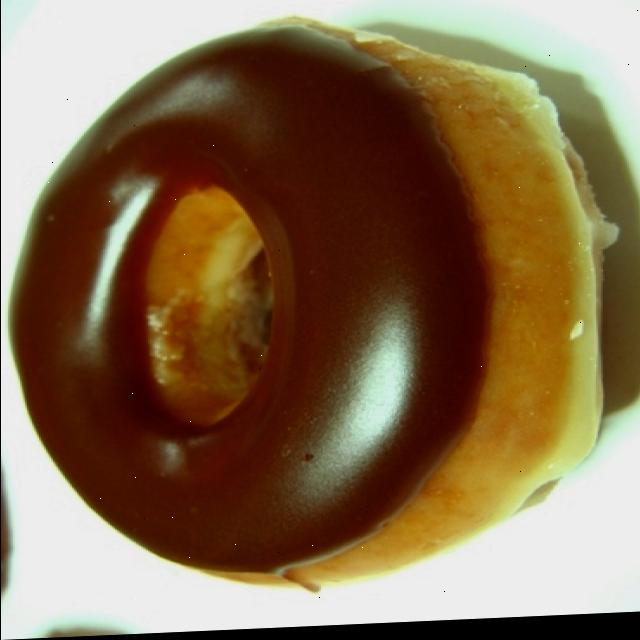炸货点心: (3, 11, 620, 597)
